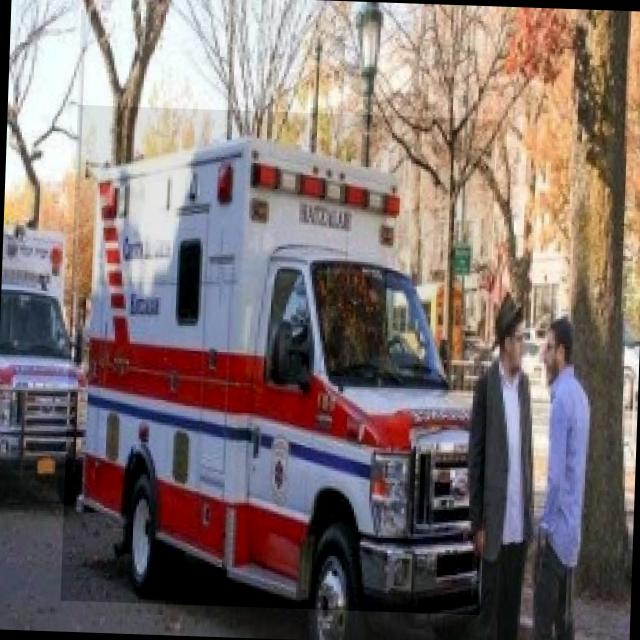ambulance: (60, 105, 496, 614)
